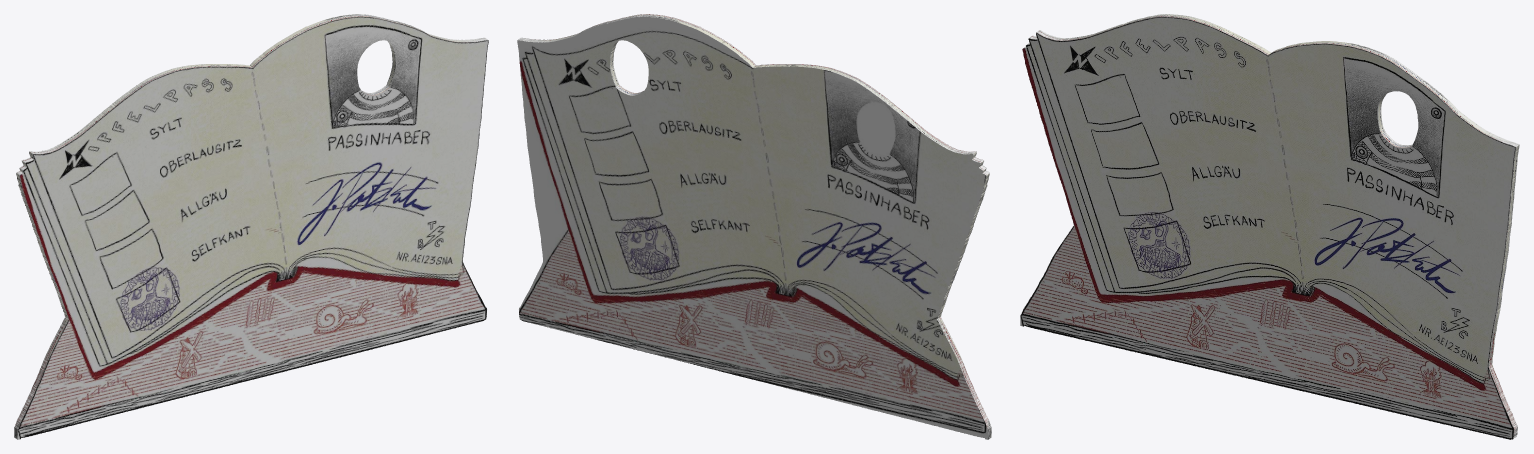
File: Pass.glb
The picture shows the model from 3 angles, left to right: view 1: azimuth 30°, elevation 25°; view 2: azimuth 150°, elevation 25°; view 3: azimuth 330°, elevation 25°; orthographic projection. The views are drawn at different scales.
Parts seen in each view (by area): view 1: Extrude; view 2: Extrude; view 3: Extrude.
Part boxes in pixels (x1,y1,x2,y2): Extrude: (14, 14, 488, 439); Extrude: (517, 14, 991, 439); Extrude: (1020, 14, 1519, 439).
Size of the model in its own units: 1.87 by 1.3 by 0.0247.
Materials: 1 (1 with a texture image).
